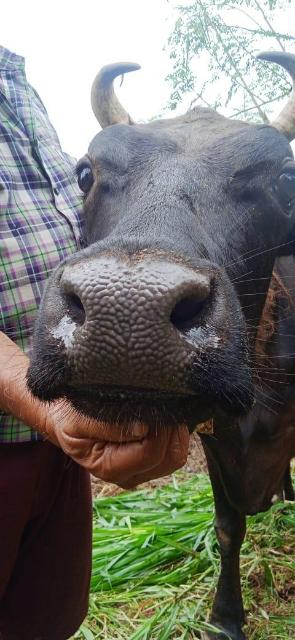Muzzle: (56, 262, 196, 396)
